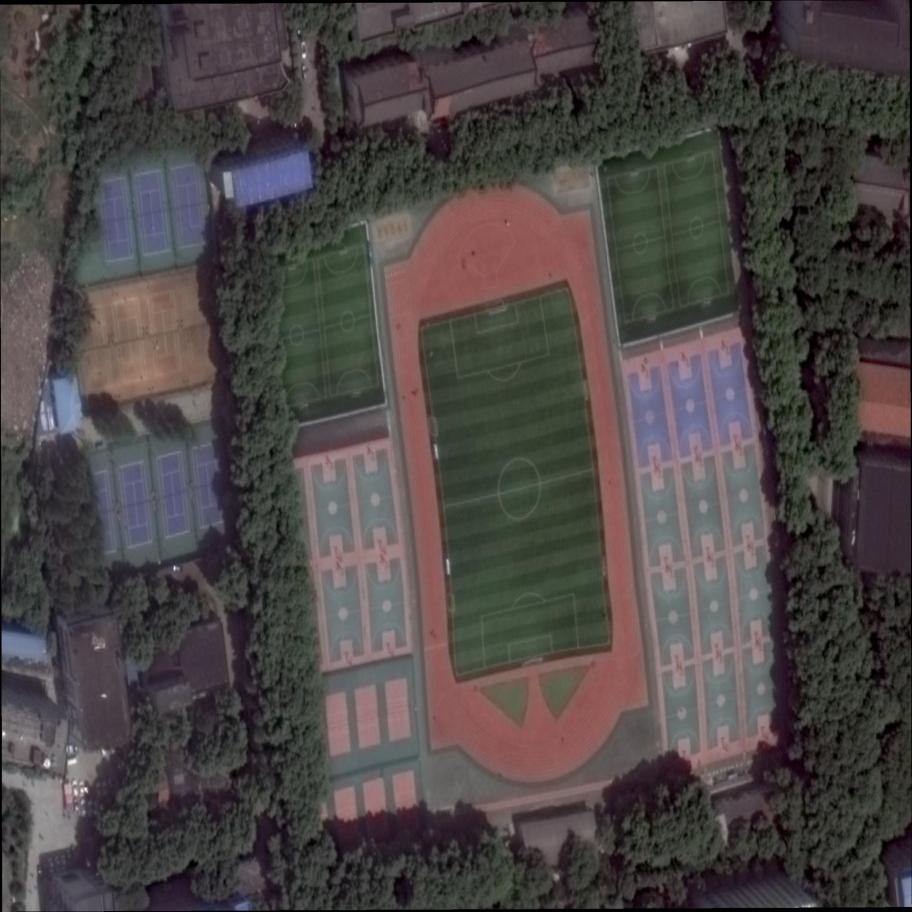small-vehicle: (80, 798, 87, 818), (72, 779, 78, 798), (73, 798, 79, 816), (79, 780, 85, 796)
